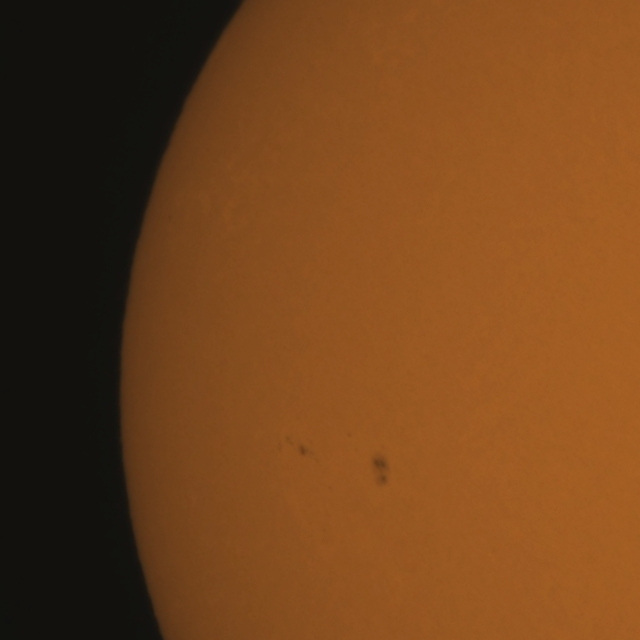sunspot: (370, 454, 390, 488), (283, 434, 311, 458)
